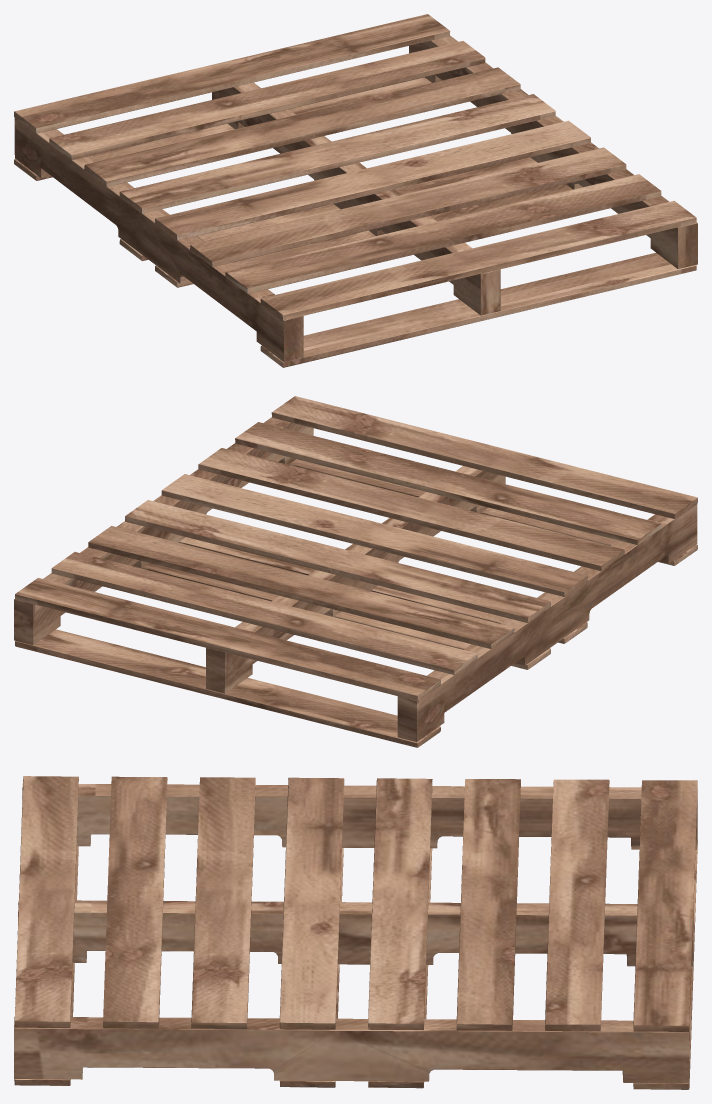
The model's file is pallet-new.glb.
3 renders of one model, top to bottom at view 1: azimuth 30°, elevation 25°; view 2: azimuth 150°, elevation 25°; view 3: azimuth 270°, elevation 25°, orthographic. The views are drawn at different scales.
Parts seen in each view (by area): view 1: pallet.005; view 2: pallet.005; view 3: pallet.005.
Part boxes in pixels (x1=…): pallet.005: x1=14, y1=14, x2=697, y2=367; pallet.005: x1=14, y1=396, x2=697, y2=747; pallet.005: x1=14, y1=776, x2=697, y2=1089.
Size of the model in its own units: 1.06 by 0.1286 by 1.22.
1 material, 1 textured.
